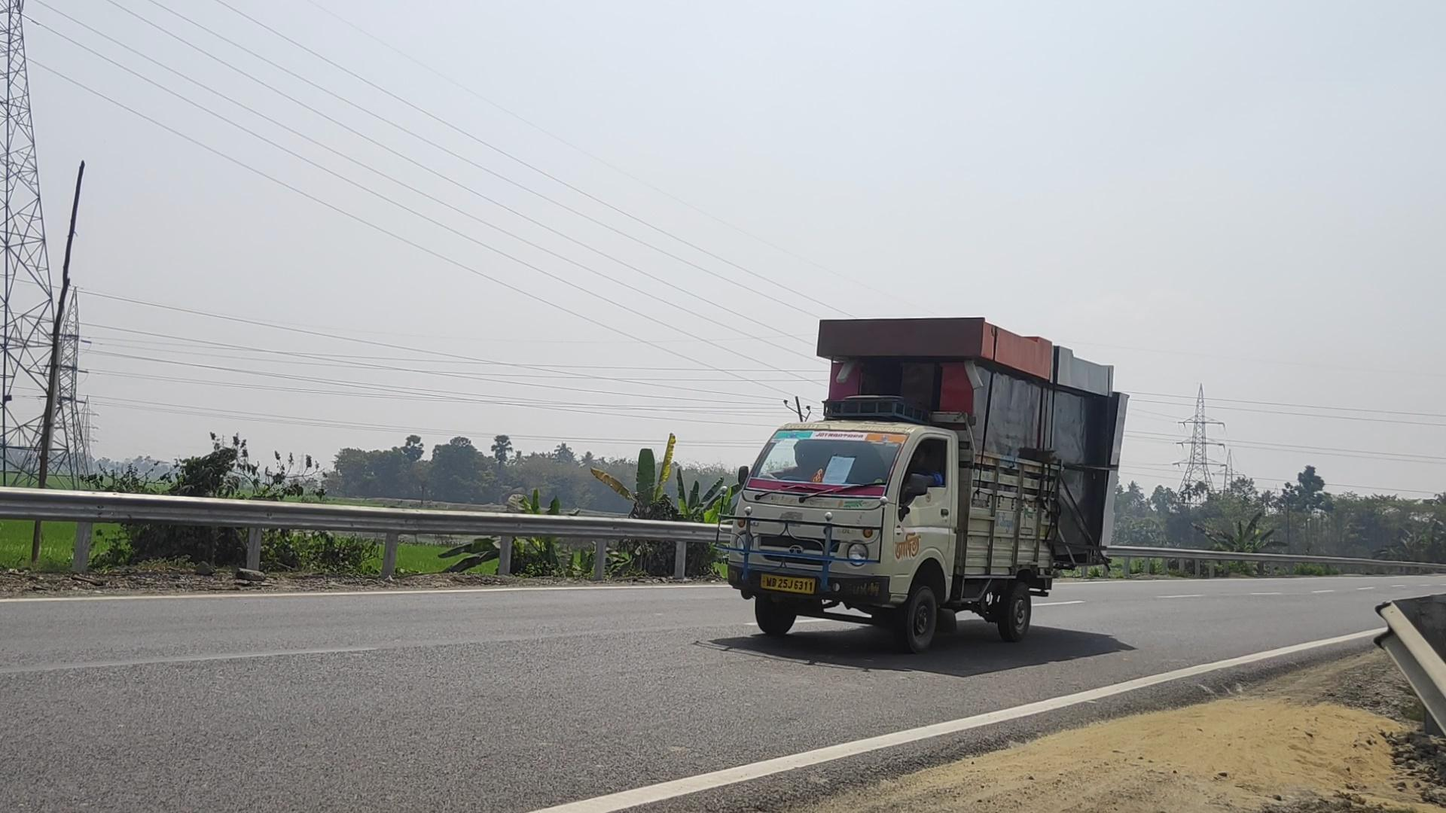van: (714, 317, 1130, 653)
